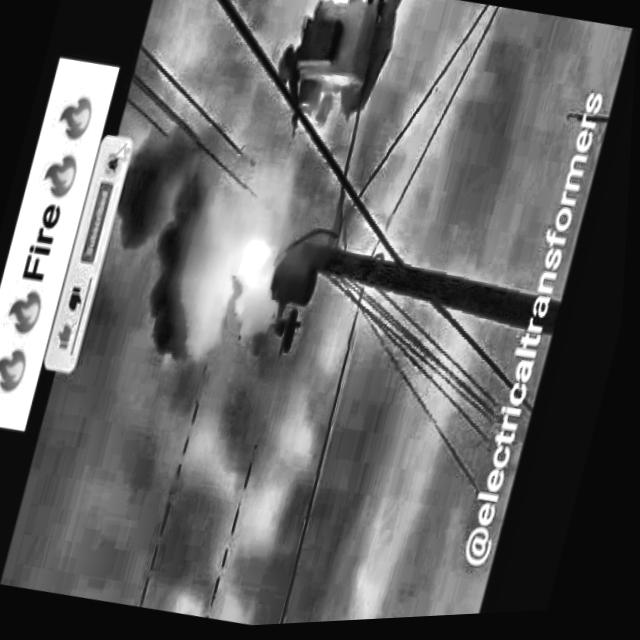Fire: (198, 209, 304, 335)
